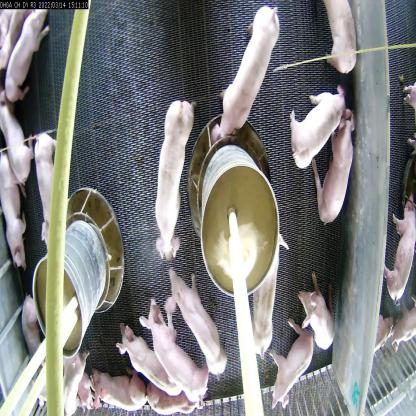Pig: (222, 5, 279, 140), (140, 296, 209, 406), (162, 264, 228, 372), (154, 96, 192, 266), (310, 119, 364, 229), (288, 78, 349, 171), (116, 317, 181, 399), (266, 318, 319, 410), (253, 232, 289, 364), (0, 87, 38, 196), (5, 9, 49, 102), (291, 269, 342, 348), (0, 146, 29, 270), (33, 129, 64, 243), (88, 361, 146, 414), (392, 194, 416, 310), (51, 340, 88, 415), (325, 2, 358, 78), (21, 292, 40, 364)
